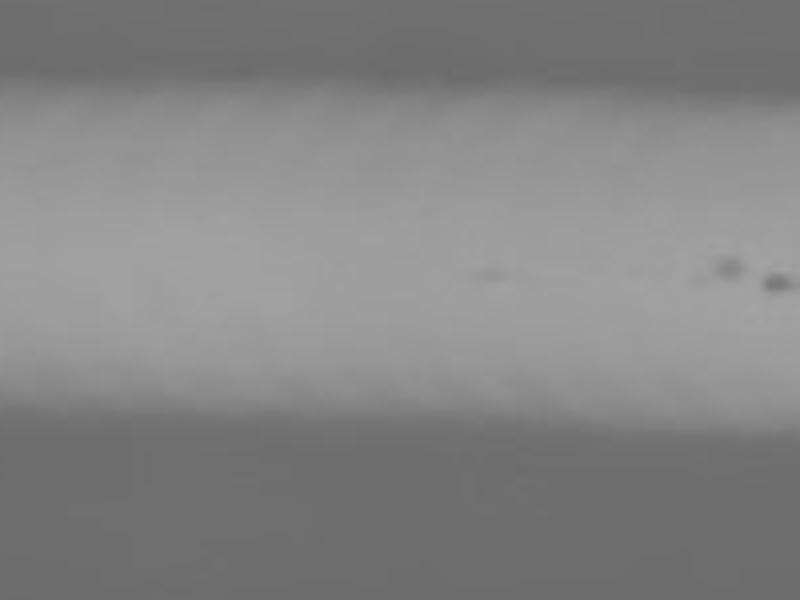defect: (711, 248, 741, 283), (758, 269, 789, 292), (480, 264, 509, 285)
